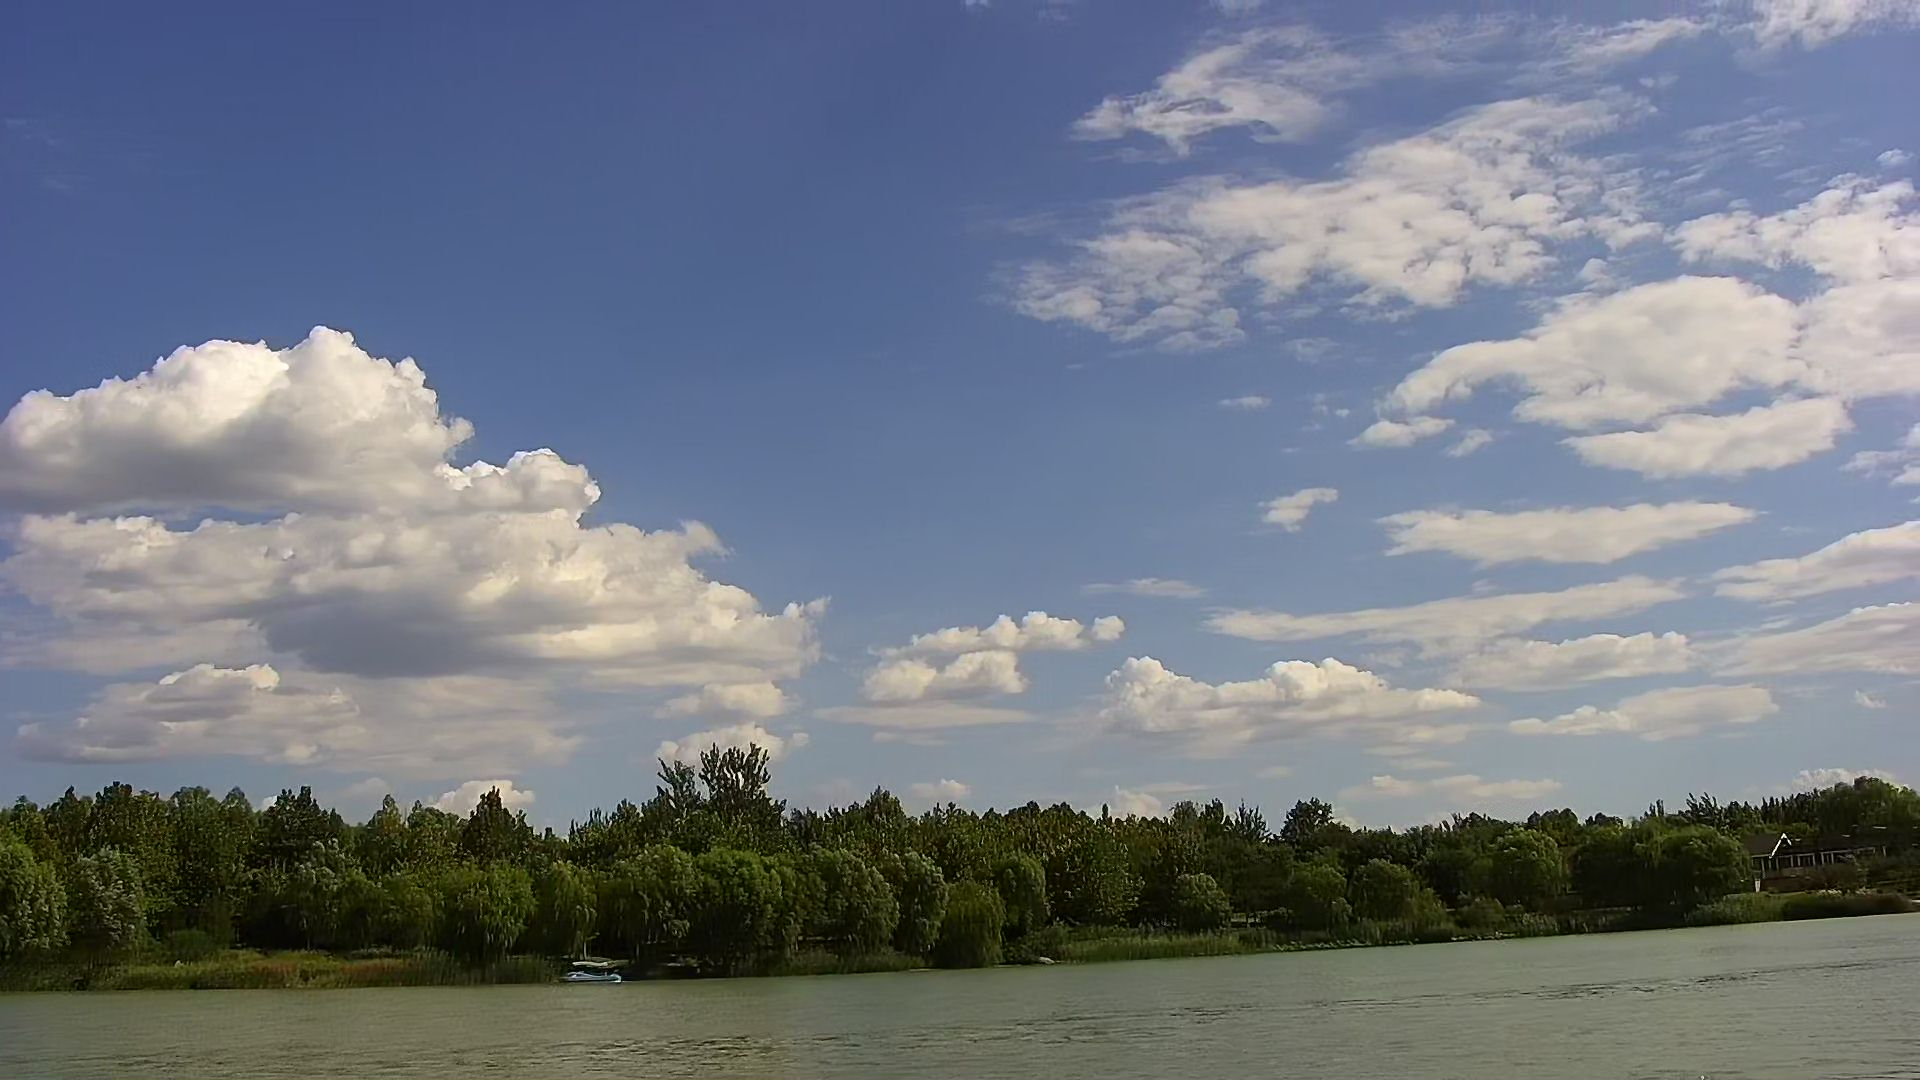boat: (558, 953, 622, 992)
